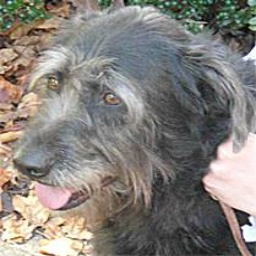dog: (13, 8, 256, 256)
